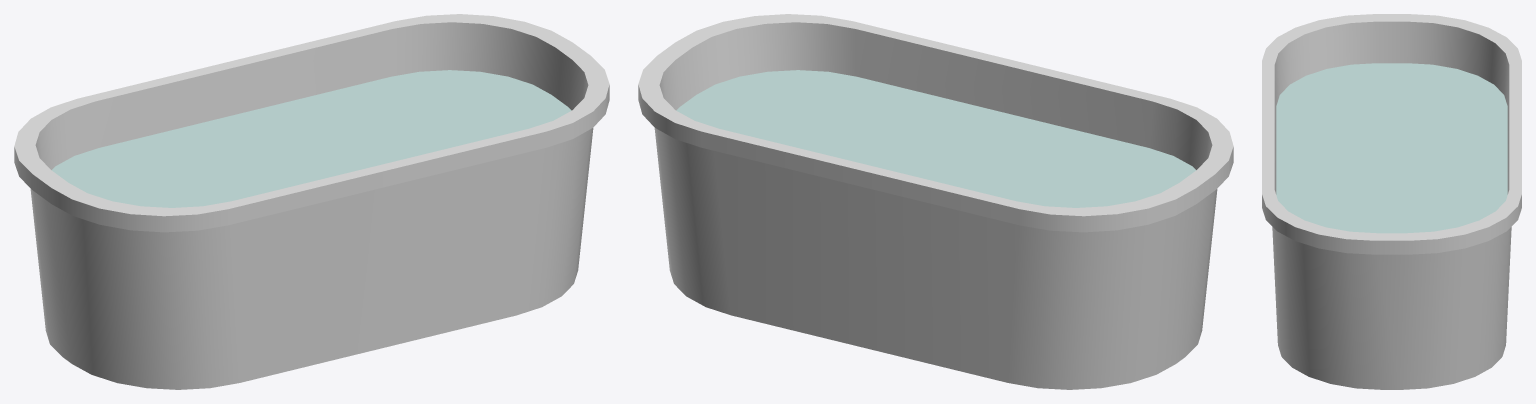
File: Bathroom_06.fbx
The picture shows the model from 3 angles, left to right: view 1: azimuth 30°, elevation 25°; view 2: azimuth 150°, elevation 25°; view 3: azimuth 270°, elevation 25°; orthographic projection. The views are drawn at different scales.
Parts seen in each view (by area): view 1: Bathroom_06; view 2: Bathroom_06; view 3: Bathroom_06.
Boxes of the visible parts, left/top/right/bottom form: Bathroom_06: left=14, top=14, right=609, bottom=389; Bathroom_06: left=638, top=14, right=1233, bottom=389; Bathroom_06: left=1262, top=14, right=1521, bottom=389.
Size of the model in its own units: 167 by 54.77 by 80.73.
